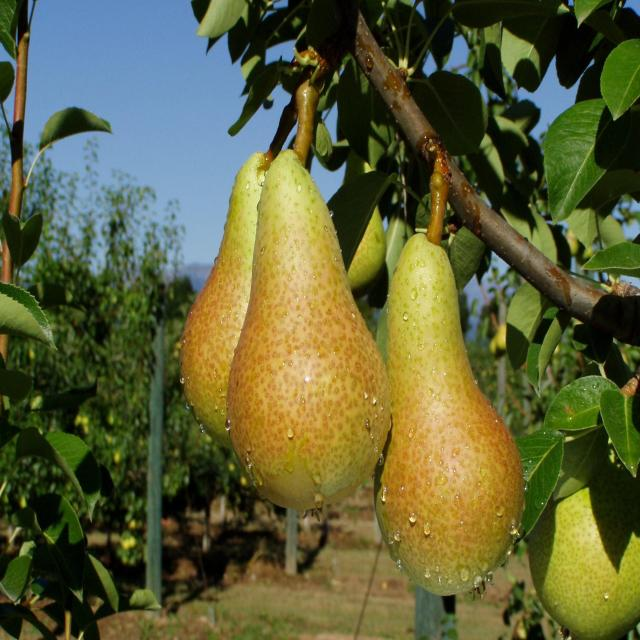pear: (178, 145, 637, 635), (224, 146, 391, 514), (373, 229, 526, 597)
